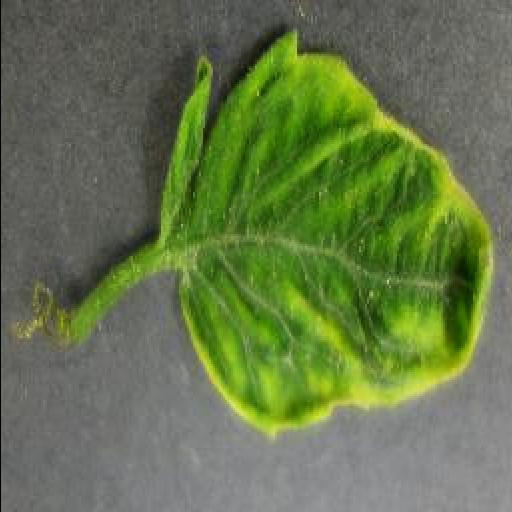disease_tomato: (155, 32, 497, 442)
